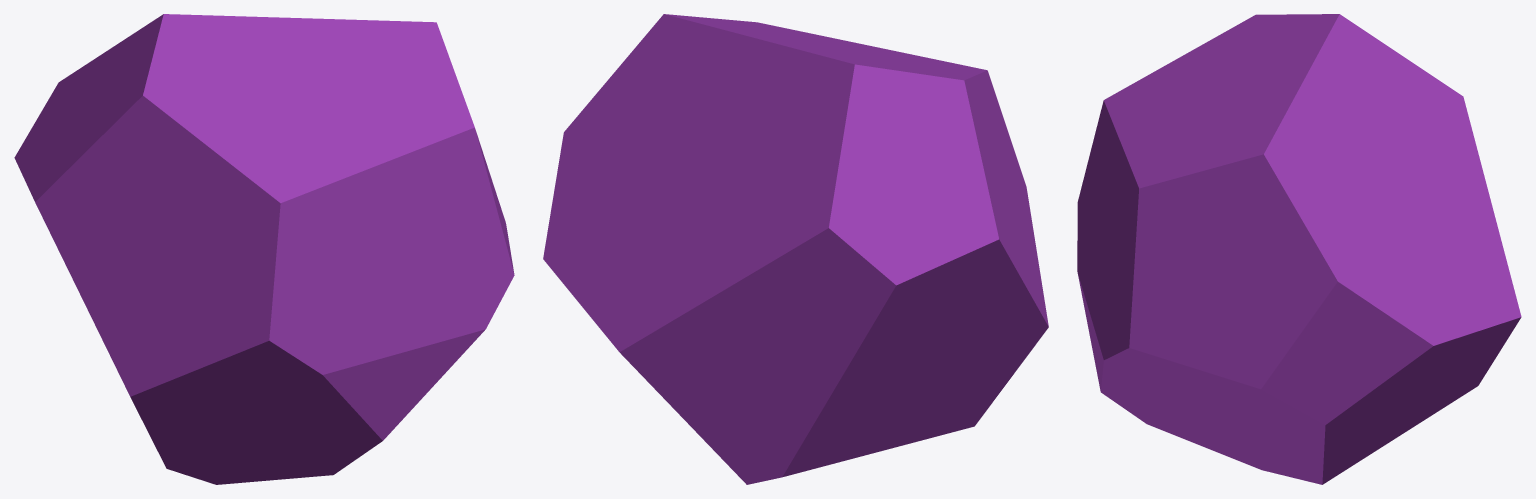
File: CaveRock2.fbx
The picture shows the model from 3 angles, left to right: view 1: azimuth 30°, elevation 25°; view 2: azimuth 150°, elevation 25°; view 3: azimuth 270°, elevation 25°; orthographic projection. The views are drawn at different scales.
Parts seen in each view (by area): view 1: Sphere.001; view 2: Sphere.001; view 3: Sphere.001.
Part boxes in pixels (x1,y1,x2,y2): Sphere.001: (14, 14, 514, 484); Sphere.001: (543, 14, 1048, 484); Sphere.001: (1077, 14, 1521, 484).
Size of the model in its own units: 182 by 178 by 170.
